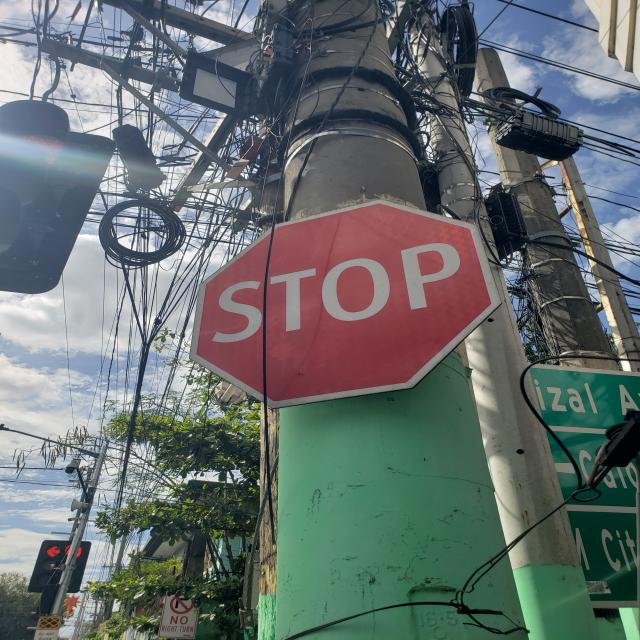stop-sign: (189, 198, 504, 409)
